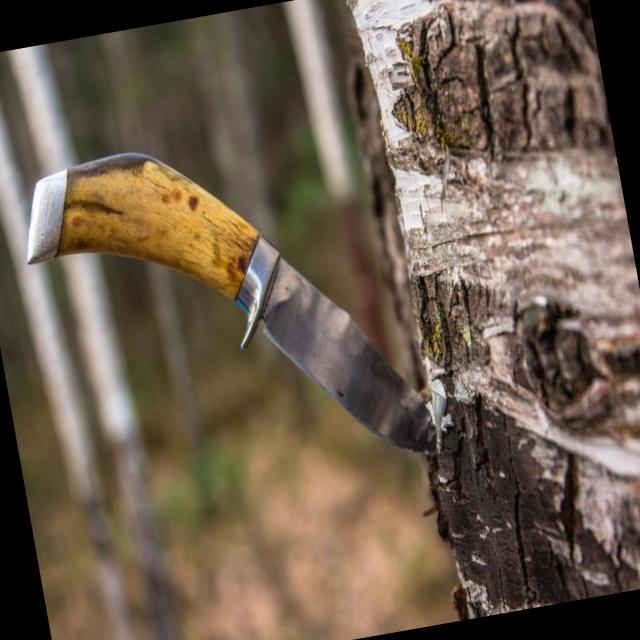Knife: (26, 152, 433, 452)
